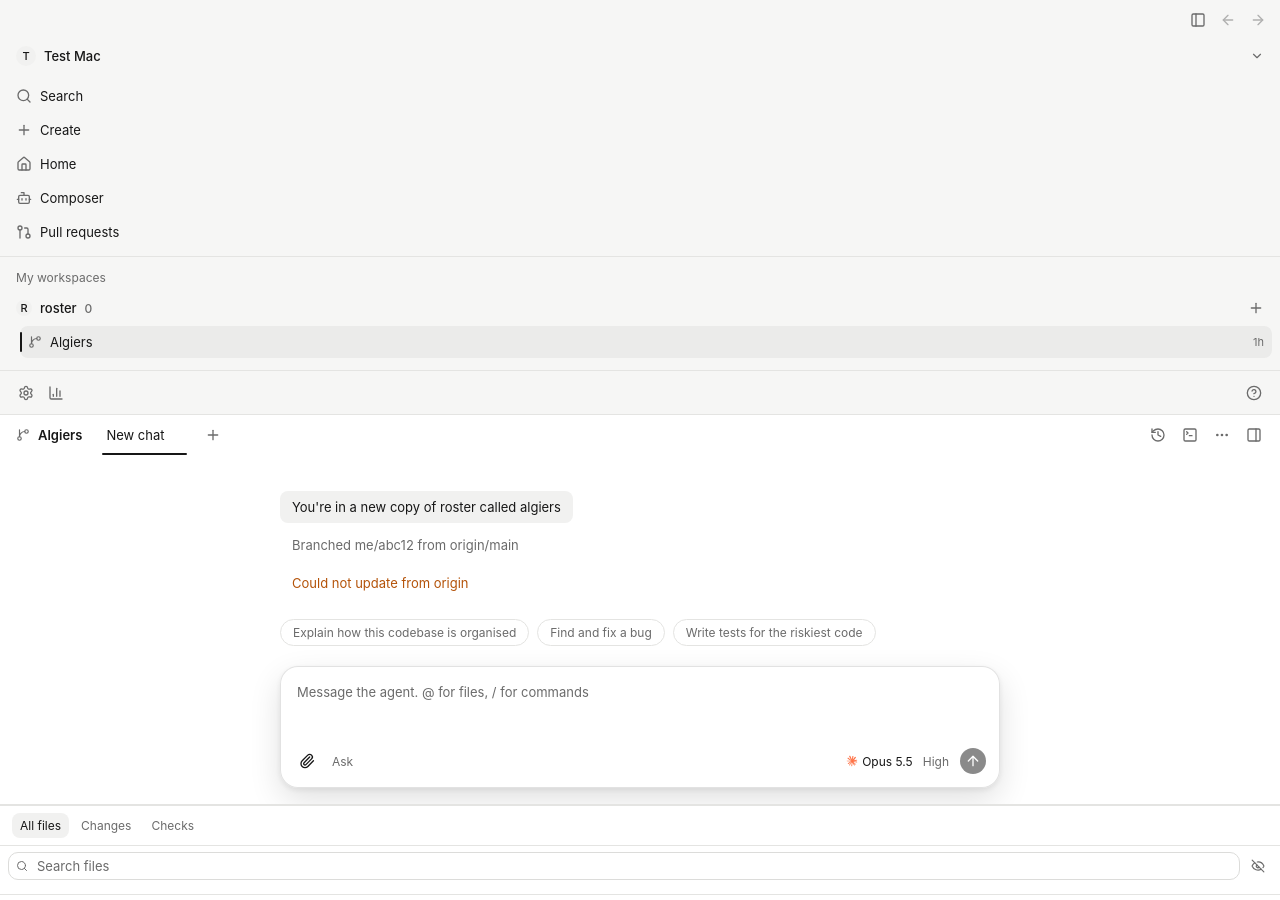
Scenario: Workspace page › shows the workspace details and the lines that start the chat
Expected: the heading "Algiers" is shown, [38,425,82,445]
Expected: the list item "You're in a new copy of roster called algiers" is shown, [280,491,573,523]
Step 1. Click the button named "Actions for Algiers" → (1222, 435), box [1208,421,1236,449]
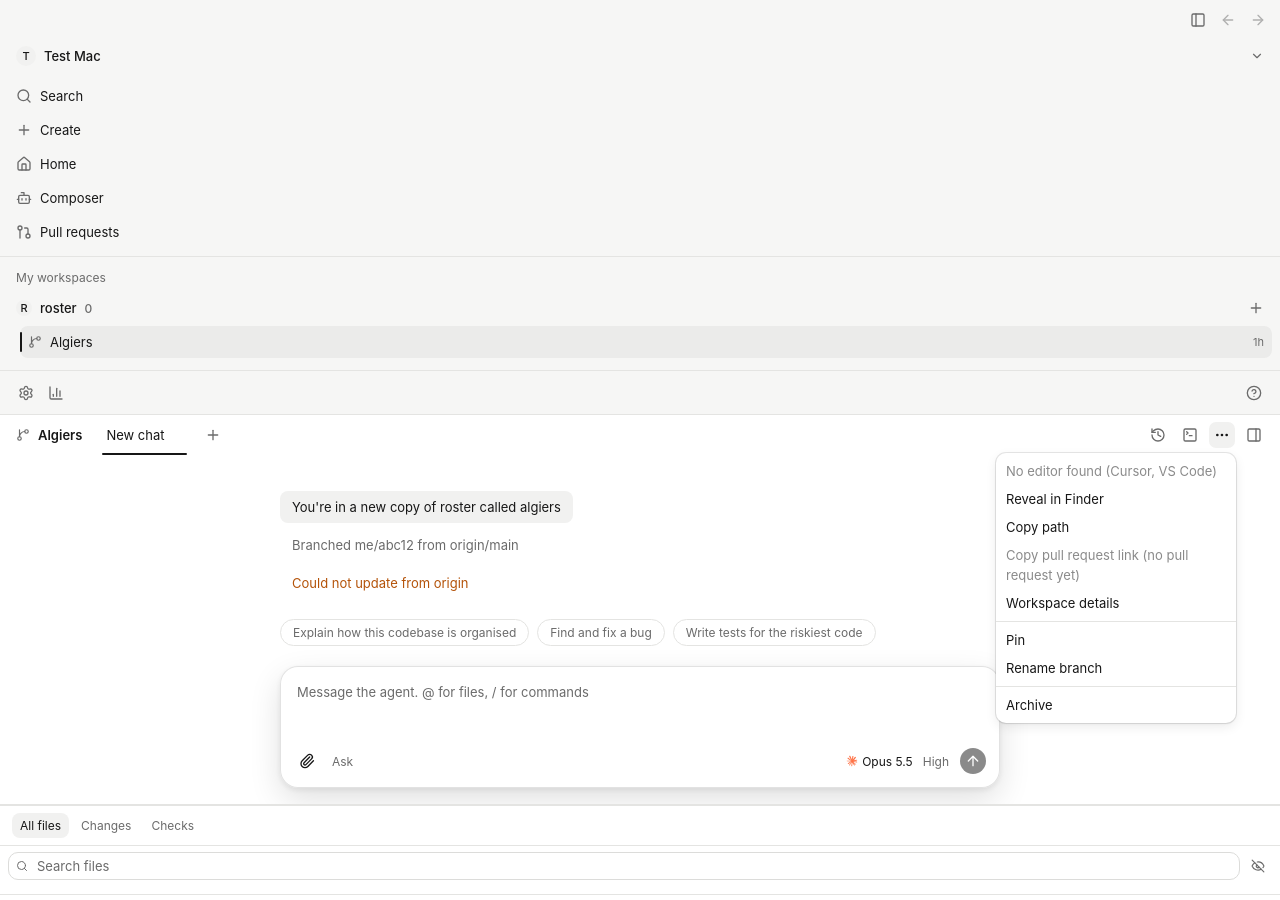
Step 2. Click the menu item "Workspace details" → (1063, 603), box [1006,595,1119,611]
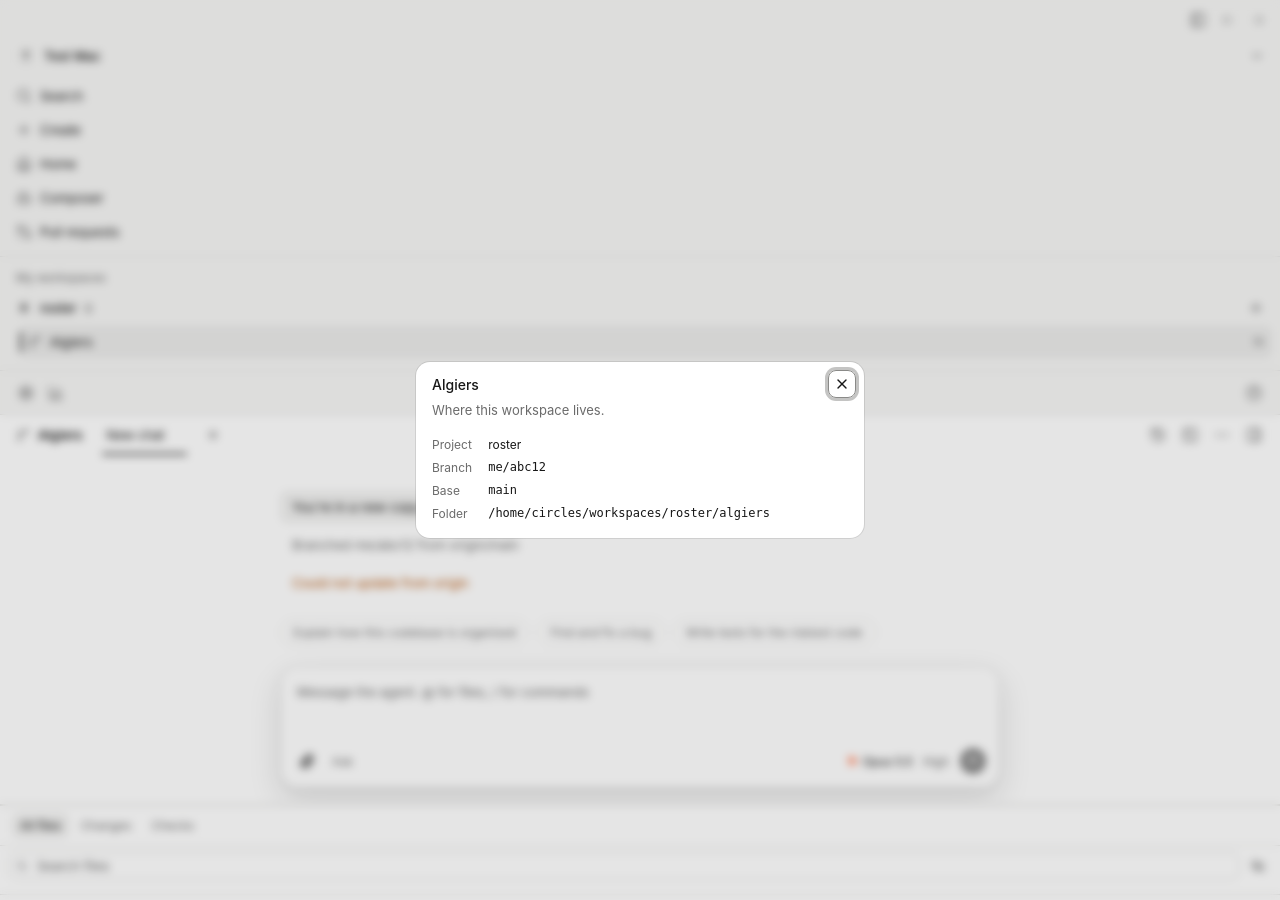
Now the text "me/abc12" is shown, box [488,460,546,474]
Now the text "roster" is shown, box [488,437,521,452]
